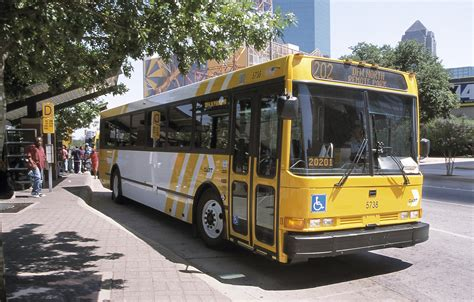bus: (100, 63, 425, 260)
